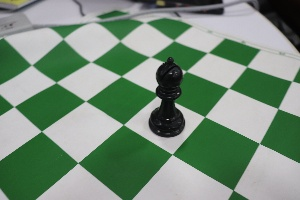black_bishop: (146, 49, 191, 141)
